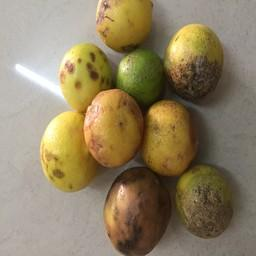Bad_lime: (103, 167, 170, 255), (176, 164, 239, 240), (87, 90, 142, 166), (41, 112, 93, 192), (150, 101, 205, 175), (168, 26, 220, 95), (90, 0, 159, 49), (56, 43, 109, 101)
